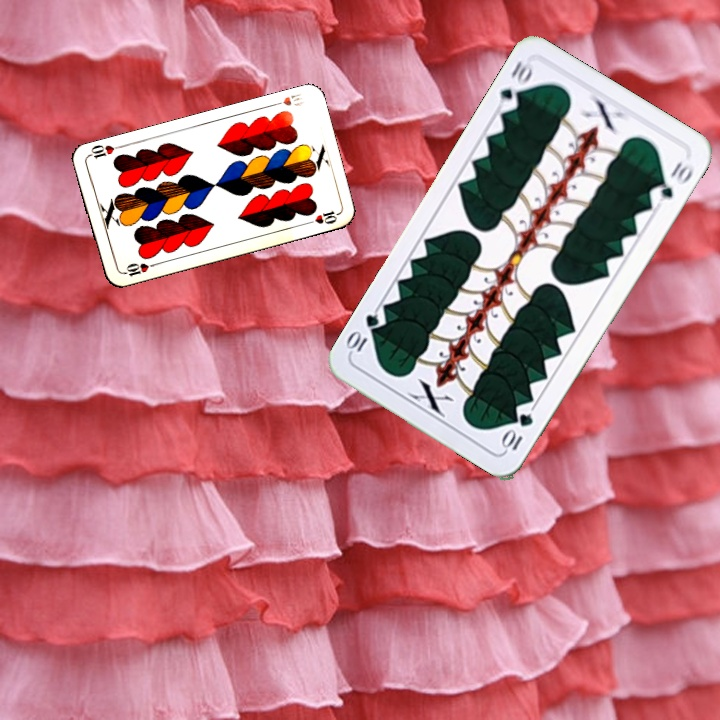G10: (495, 56, 536, 115), (498, 409, 536, 454)
H10: (118, 259, 158, 279), (268, 89, 303, 109)
